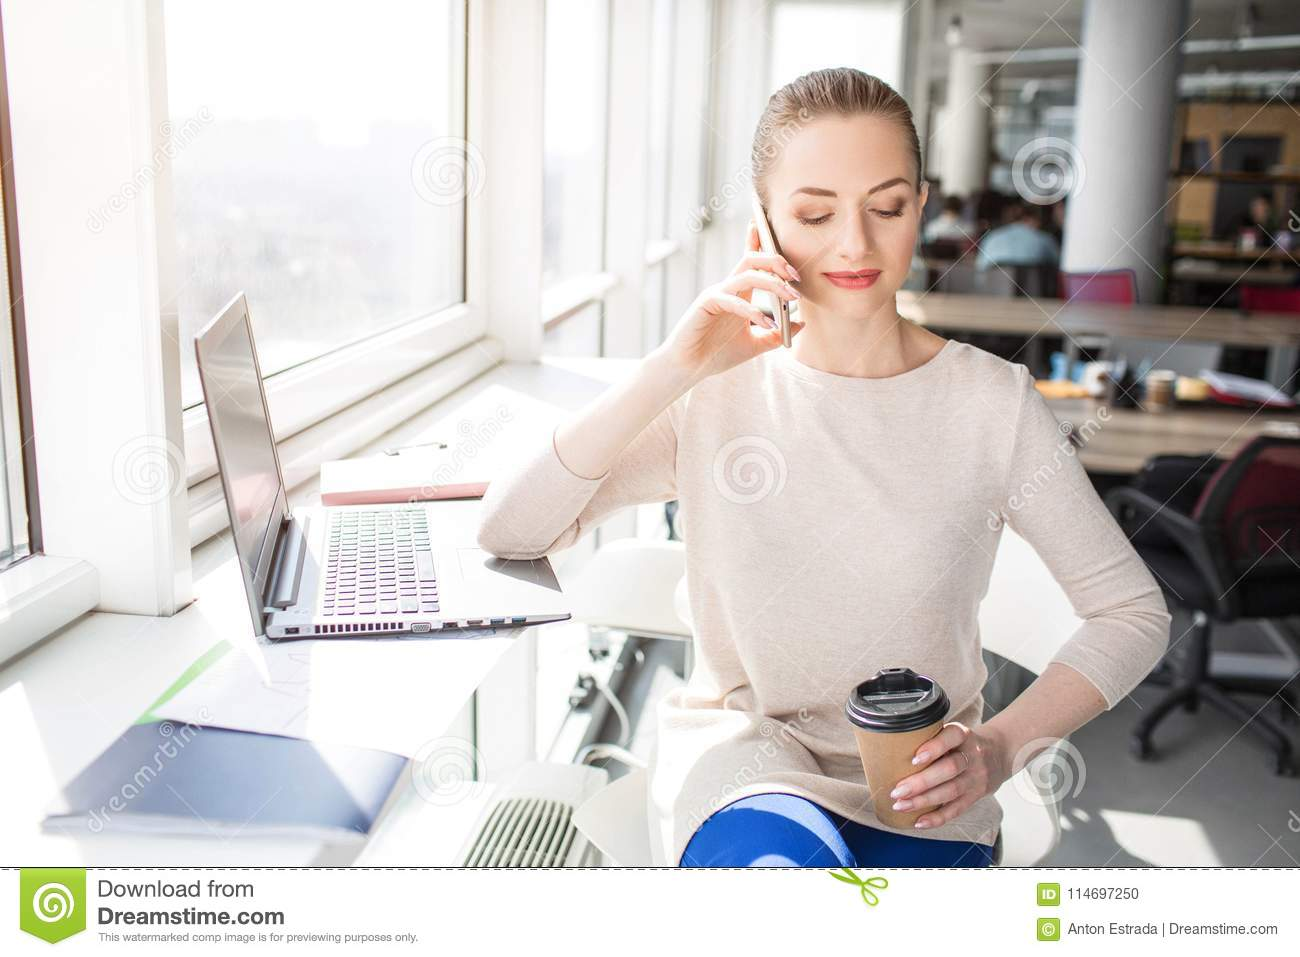phone: (707, 210, 806, 356)
talk: (665, 177, 930, 398)
